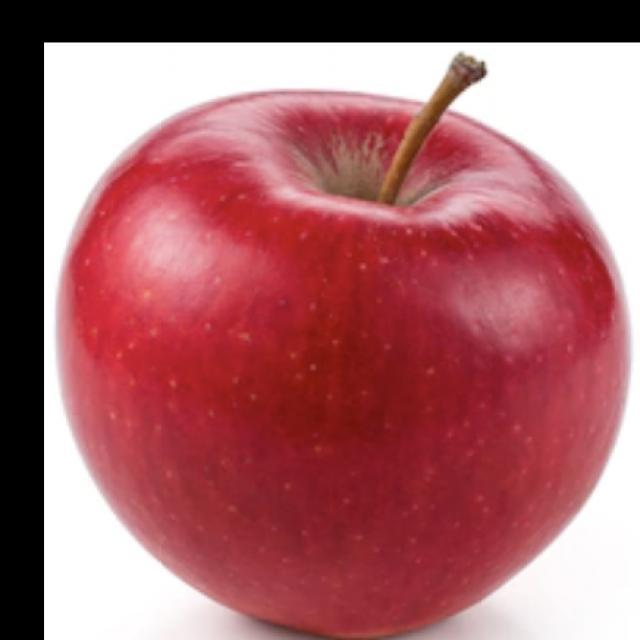Fresh Apple: (56, 82, 637, 640)
